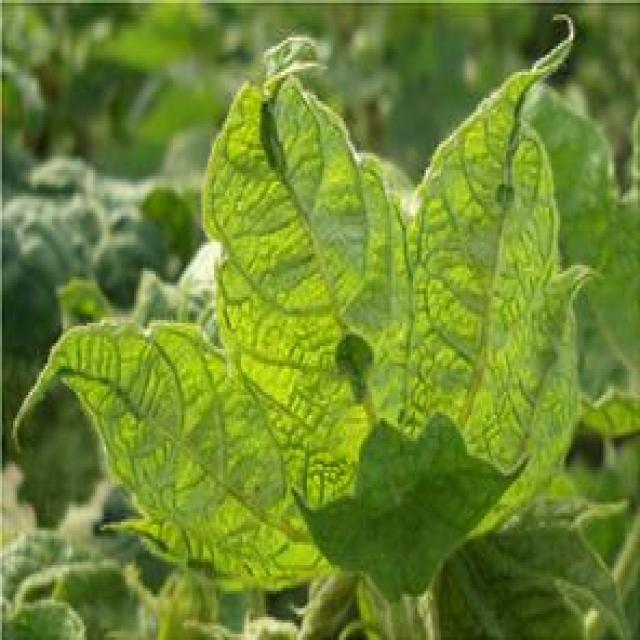Leaf Curl Virus: (173, 122, 528, 584)
